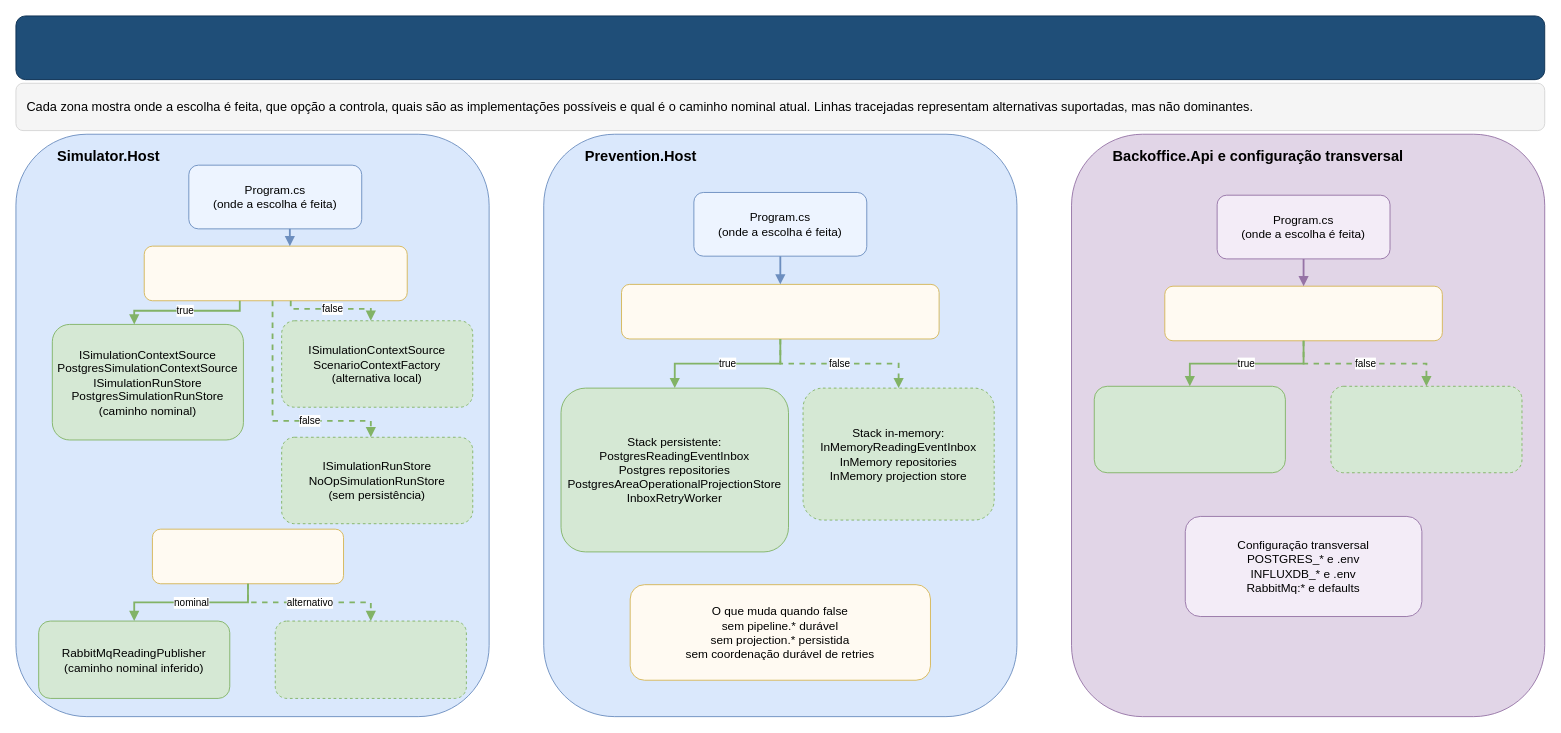
Some shapes in this 1561 by 733 pixel diagram are drawn without their labels. Each missing label, with the centre of its shape:
BackofficeApiOptions.ControlPlaneEnabled = true: point 1303,313
Configuração e seleção de implementações na branch atual: point 780,47
ConsoleReadingPublisher (alternativa implícita): point 370,659
IControlPlaneService PostgresControlPlaneService (caminho nominal): point 1189,429
IControlPlaneService UnavailableControlPlaneService (fallback): point 1426,429
PreventionHostOptions.PipelinePersistenceEnabled = true: point 780,311
Publisher sem flag explícita no código: point 248,556
SimulatorOptions.ControlPlaneEnabled = true: point 275,273
